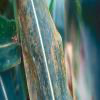Corn rust leaf: (16, 1, 73, 99)
